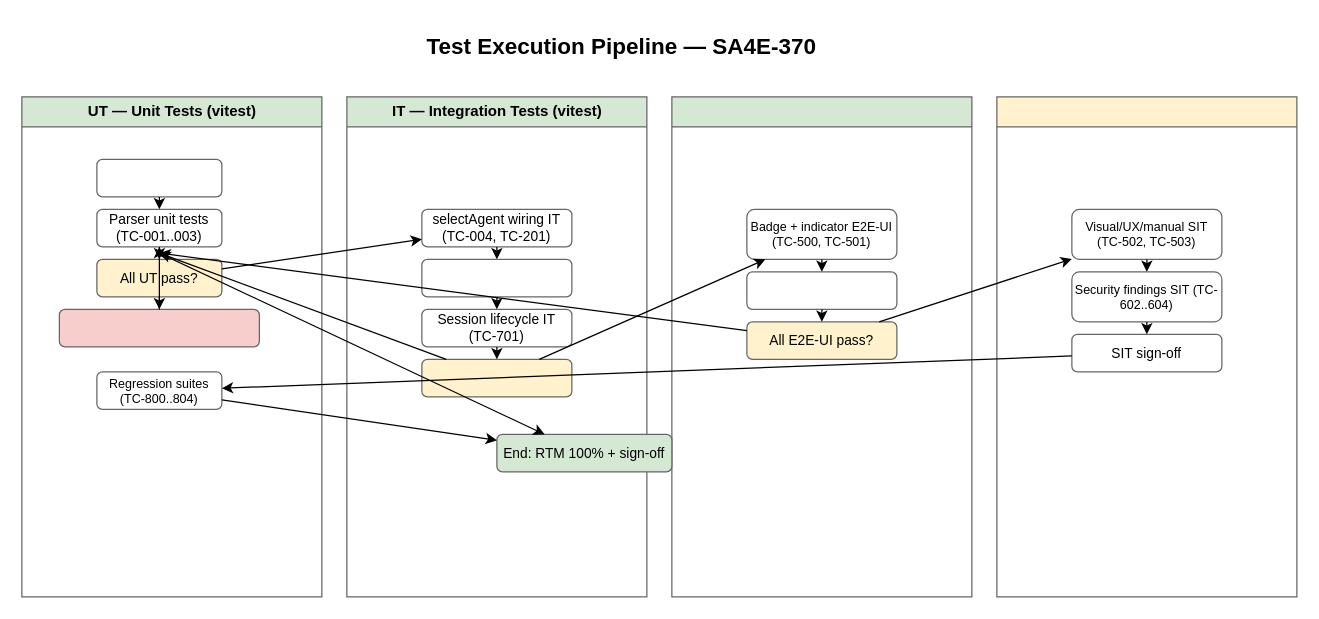
Some shapes in this 1319 by 619 pixel diagram are drawn without their labels. The box of each missing label's shape, as (x1, y1, x2, y2) in pixels:
All IT pass?: (421, 358, 572, 397)
E2E-UI (Playwright): (671, 96, 972, 597)
Fix defects: (58, 308, 259, 347)
Governance IT (TC-300, TC-301): (421, 258, 572, 297)
SIT — Manual Exploratory: (996, 96, 1297, 597)
Slash menu E2E-UI (TC-500): (746, 271, 897, 309)
Start: Agent fixtures ready: (96, 158, 222, 197)
